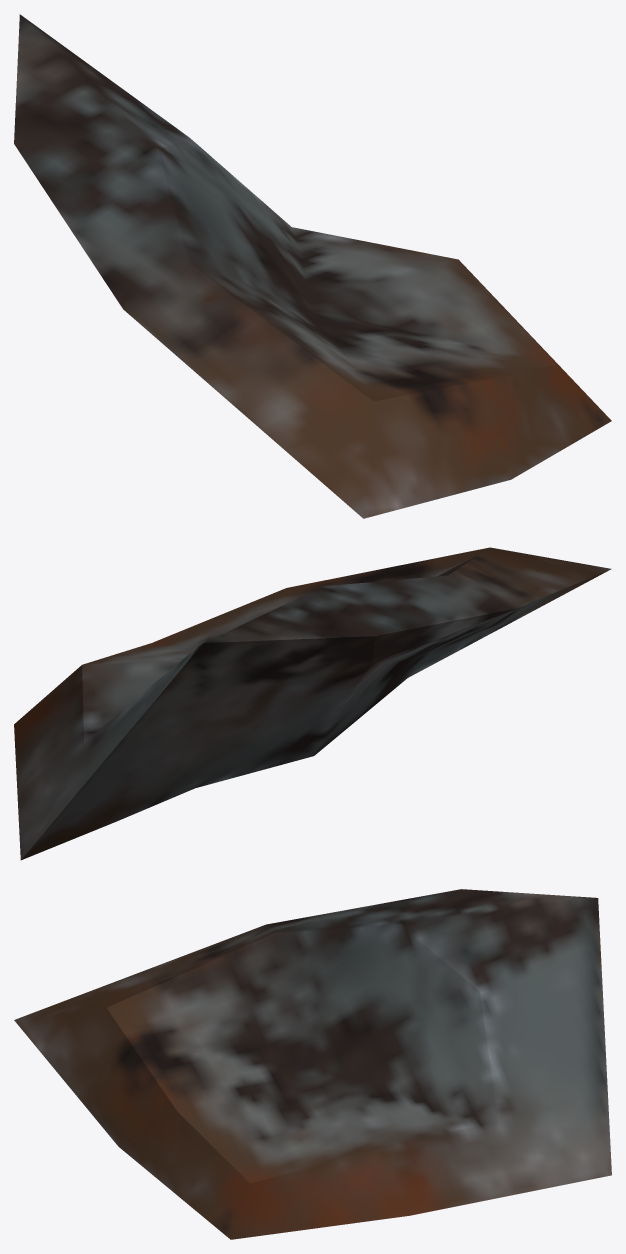
The model's file is RustedArmor_piece5.fbx.
3 views of the same model, one above another, from view 1: azimuth 30°, elevation 25°; view 2: azimuth 150°, elevation 25°; view 3: azimuth 270°, elevation 25° (orthographic). The views are drawn at different scales.
Parts seen in each view (by area): view 1: armor_piece5; view 2: armor_piece5; view 3: armor_piece5.
Part boxes in pixels (x1=…): armor_piece5: x1=14, y1=14, x2=611, y2=518; armor_piece5: x1=14, y1=547, x2=611, y2=860; armor_piece5: x1=14, y1=889, x2=611, y2=1239.
Size of the model in its own units: 30.19 by 18.79 by 45.97.
